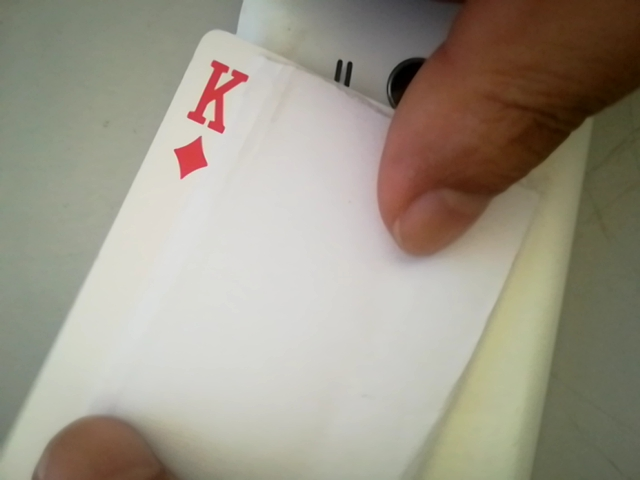fk k: (166, 51, 251, 187)
